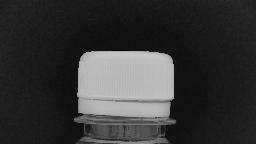Broken Ring: (98, 93, 176, 119)
